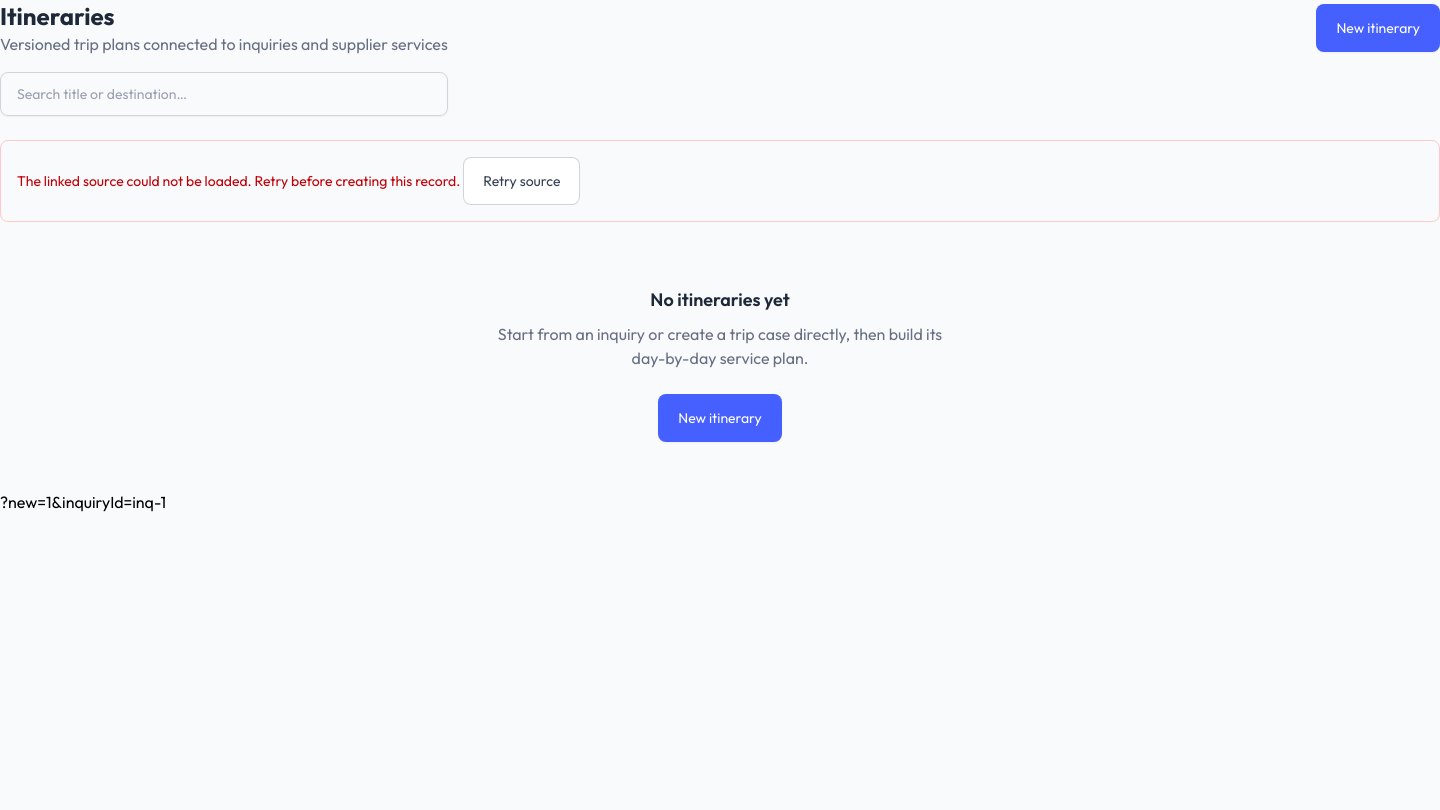
inquiry handoff › keeps the source link on failure and retries without opening an empty form
Expected: the message is shown, [0, 140, 1439, 222]
Expected: the text with test id "path" shows "inquiryId=inq-1", [0, 492, 166, 512]
Click the button "Retry source" at (522, 181), box [463, 157, 580, 205]
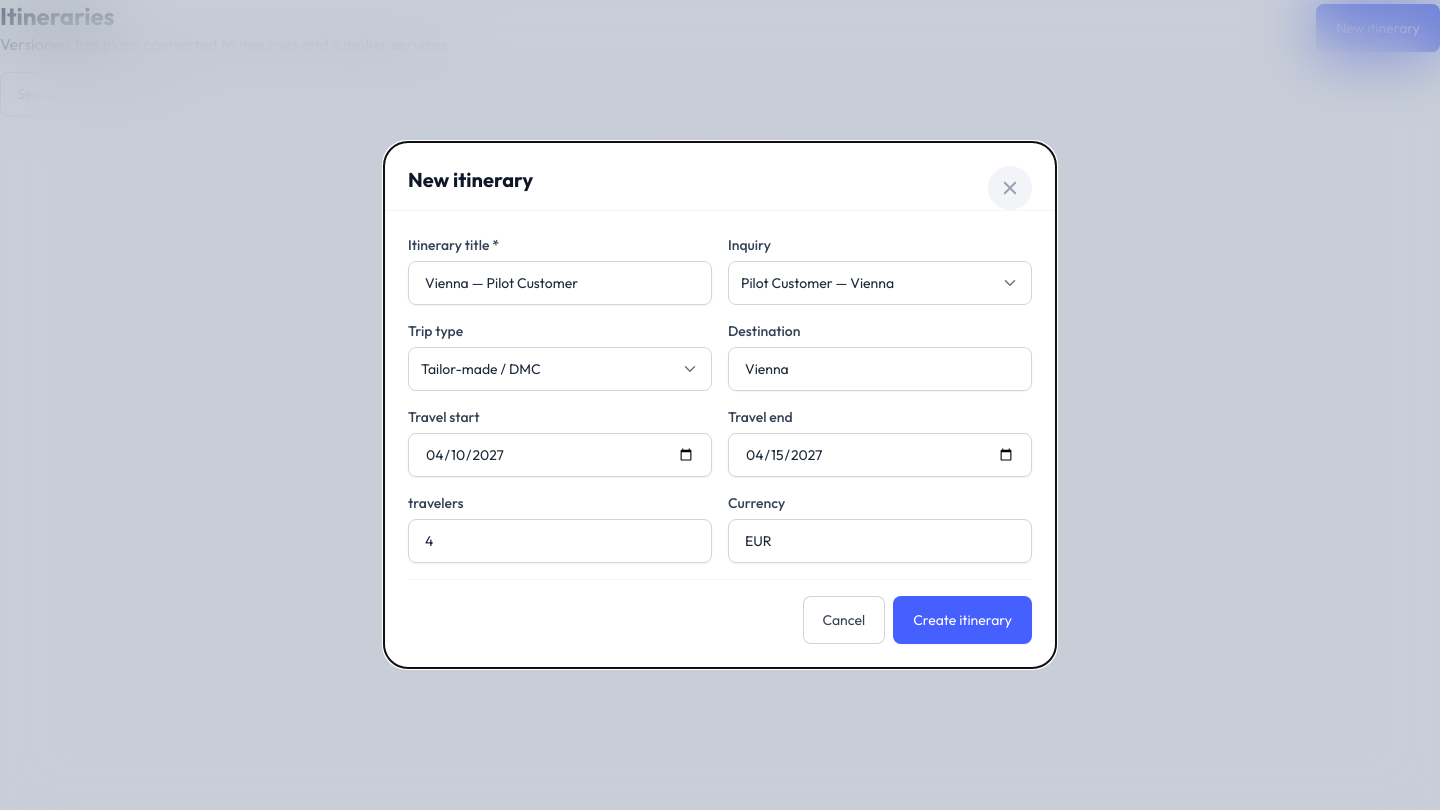
Now the field showing "Vienna — Pilot Customer" below "Itinerary title *" is shown, box [408, 261, 712, 305]
